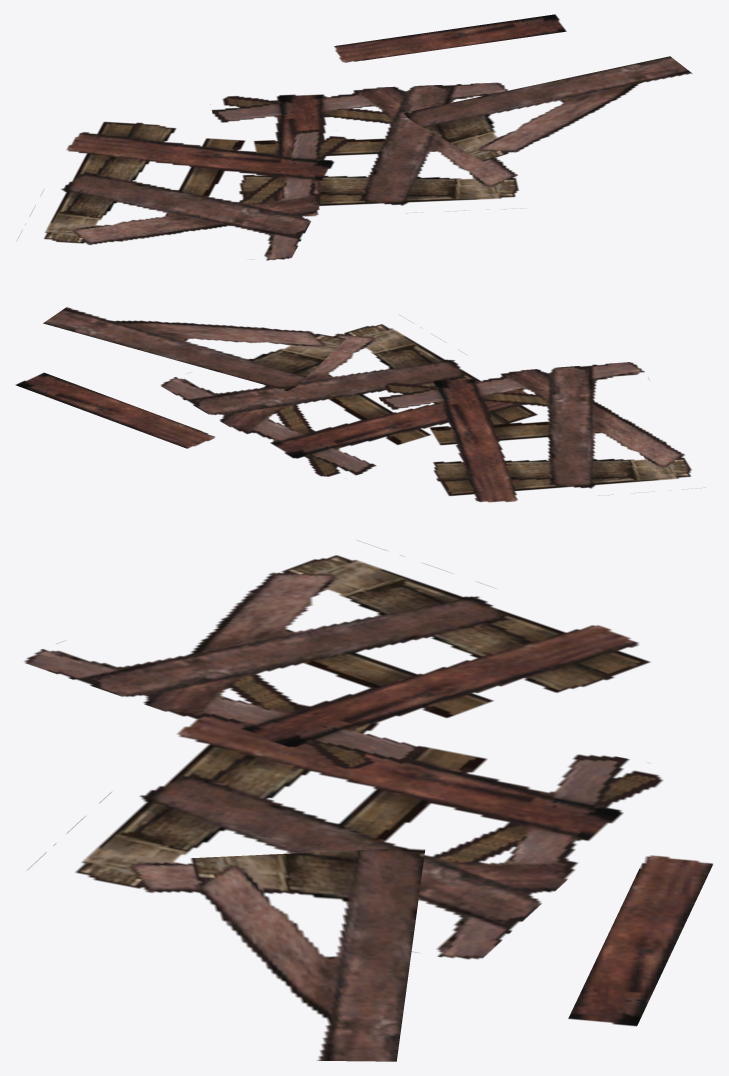
Rendered from Environment - Prop - Wood Wall 01 - PMWallWd1_R.glb.
3 renders of one model, top to bottom at view 1: azimuth 30°, elevation 25°; view 2: azimuth 150°, elevation 25°; view 3: azimuth 270°, elevation 25°, orthographic. The views are drawn at different scales.
Visible parts, largest first — view 1: PMWALLWD1_R; view 2: PMWALLWD1_R; view 3: PMWALLWD1_R.
Boxes of the visible parts, <box> form: PMWALLWD1_R: <box>17,14,692,260</box>; PMWALLWD1_R: <box>15,307,692,502</box>; PMWALLWD1_R: <box>24,540,712,1061</box>.
Bounding box in the file's own units: 30.22 × 1.1 × 16.29.
1 material, 1 textured.
